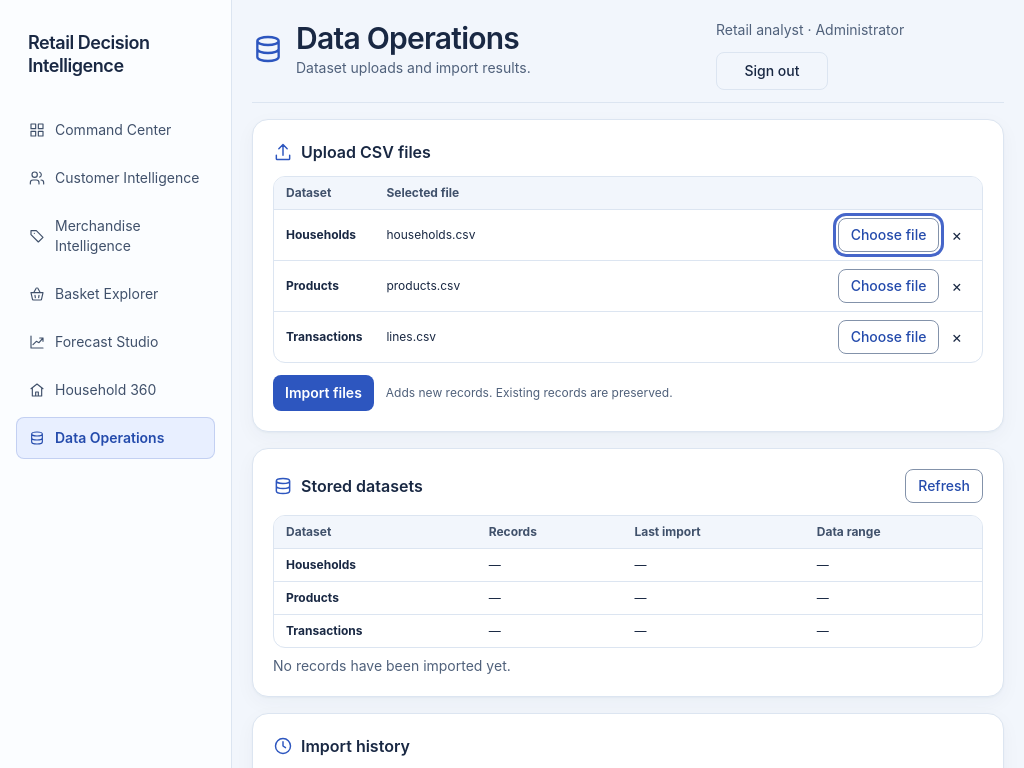
Scenario: data operations › imports dependencies first and keeps a file with errors available for retry
Earlier steps of the test are not shown.
Check: the heading "Import history" is shown, box x1=273 y1=734 x2=410 y2=758
Click the button "Import files": {"x": 323, "y": 393} x1=273 y1=375 x2=374 y2=411
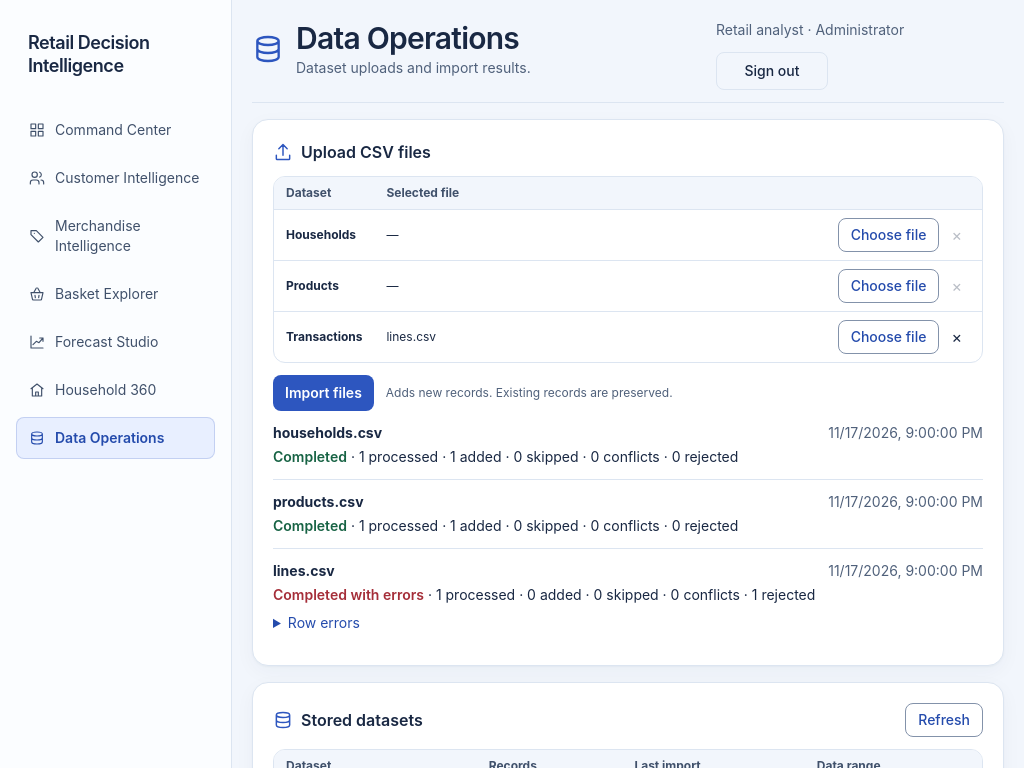
Check: the text "Completed with errors" is shown, box x1=273 y1=586 x2=424 y2=603
Click the heading "Row errors": {"x": 324, "y": 622} x1=288 y1=614 x2=360 y2=631
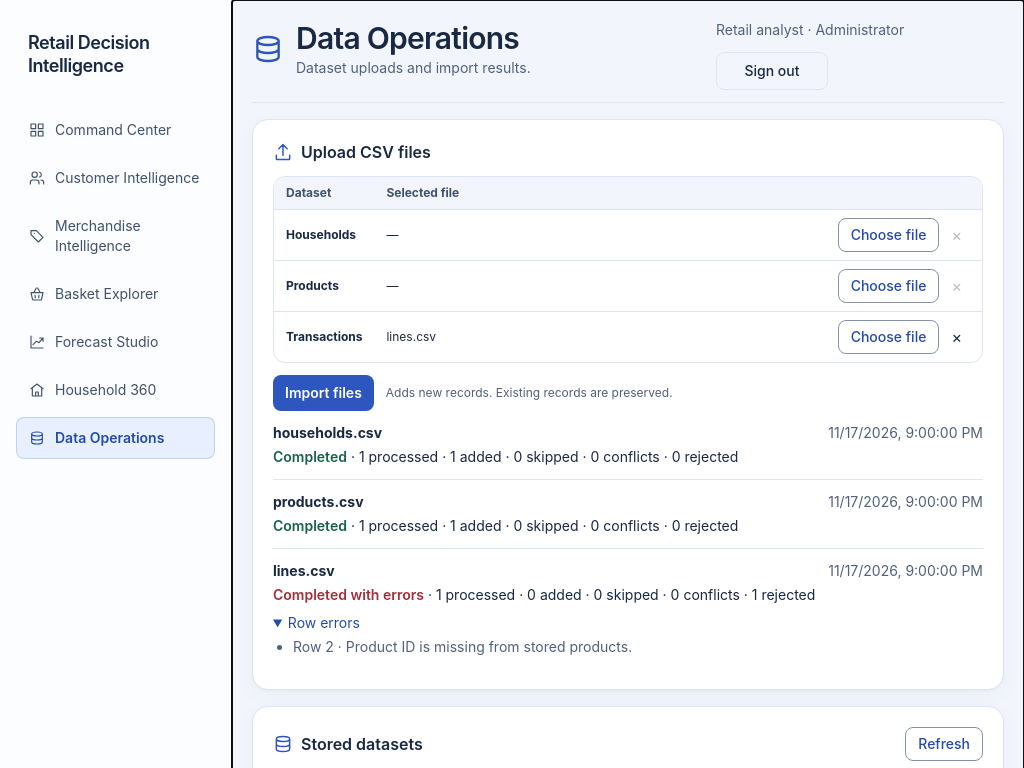
Check: the button "Import files" is enabled, box x1=273 y1=375 x2=374 y2=411
Check: the list item "Row 2 · Product ID is missing from stored products." is shown, box x1=293 y1=638 x2=632 y2=655
Click the button named "Remove Transactions file": {"x": 957, "y": 337} x1=943 y1=321 x2=970 y2=353
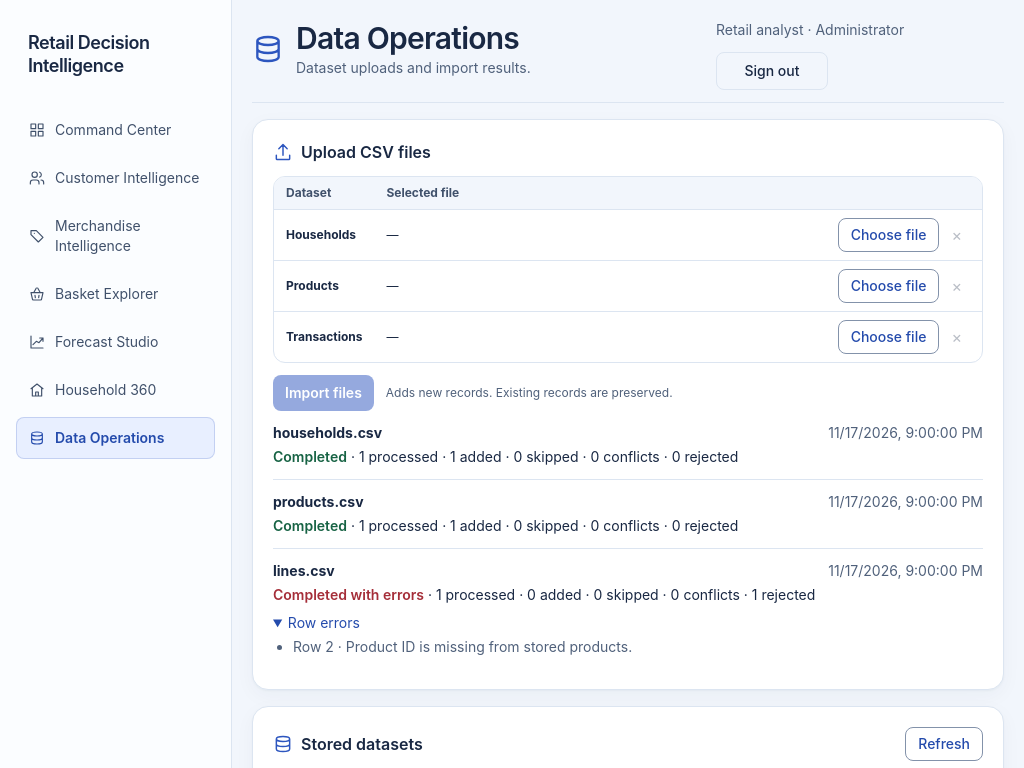
Check: the button "Import files" is disabled, box x1=273 y1=375 x2=374 y2=411
